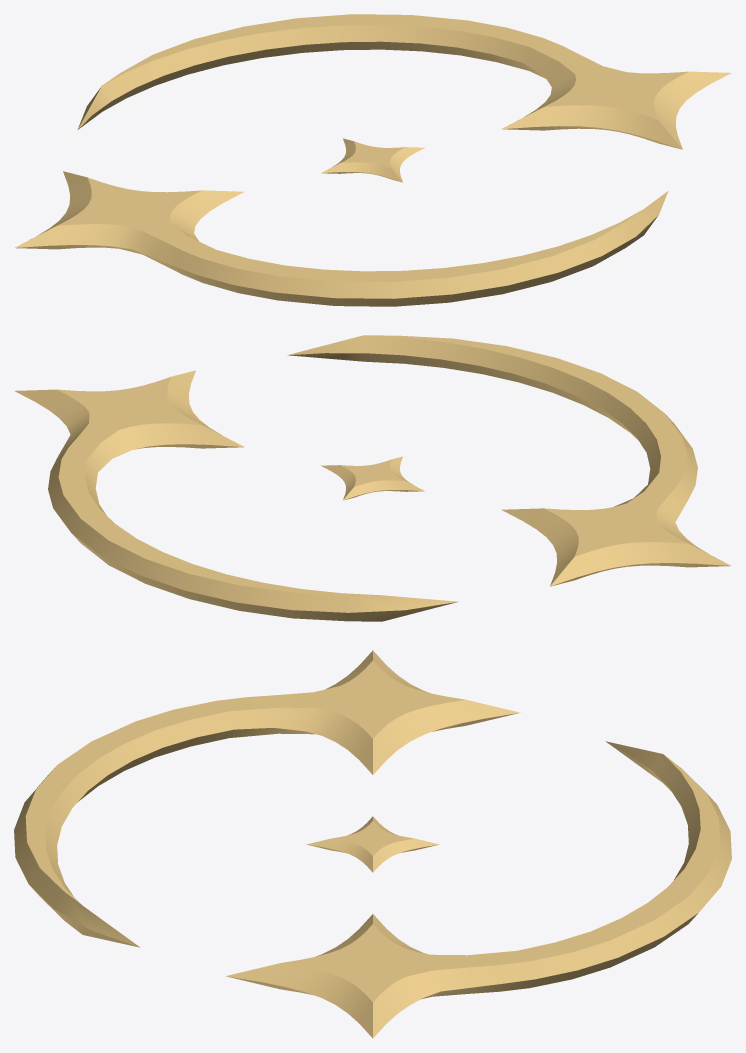
File: Sigil25.fbx
3 views of the same model, one above another, from view 1: azimuth 30°, elevation 25°; view 2: azimuth 150°, elevation 25°; view 3: azimuth 270°, elevation 25° (orthographic). The views are drawn at different scales.
Parts seen in each view (by area): view 1: Sigil_25; view 2: Sigil_25; view 3: Sigil_25.
Part boxes in pixels (<box>): Sigil_25: <box>15,14,730,306</box>; Sigil_25: <box>15,335,730,621</box>; Sigil_25: <box>14,650,731,1038</box>.
Size of the model in its own units: 0.124 by 0.00437 by 0.0969.
